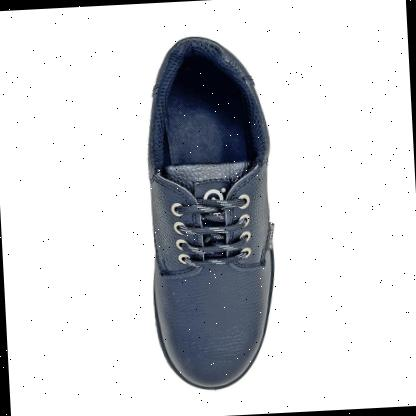bota: (133, 27, 287, 396)
